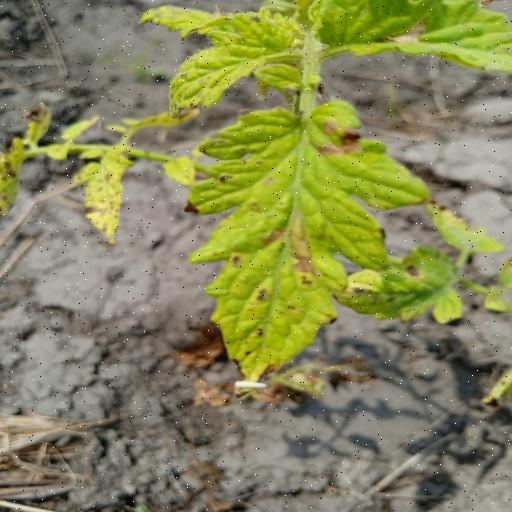Tomato_Brown_Spots: (185, 99, 434, 388), (310, 0, 512, 76), (334, 248, 471, 326)
